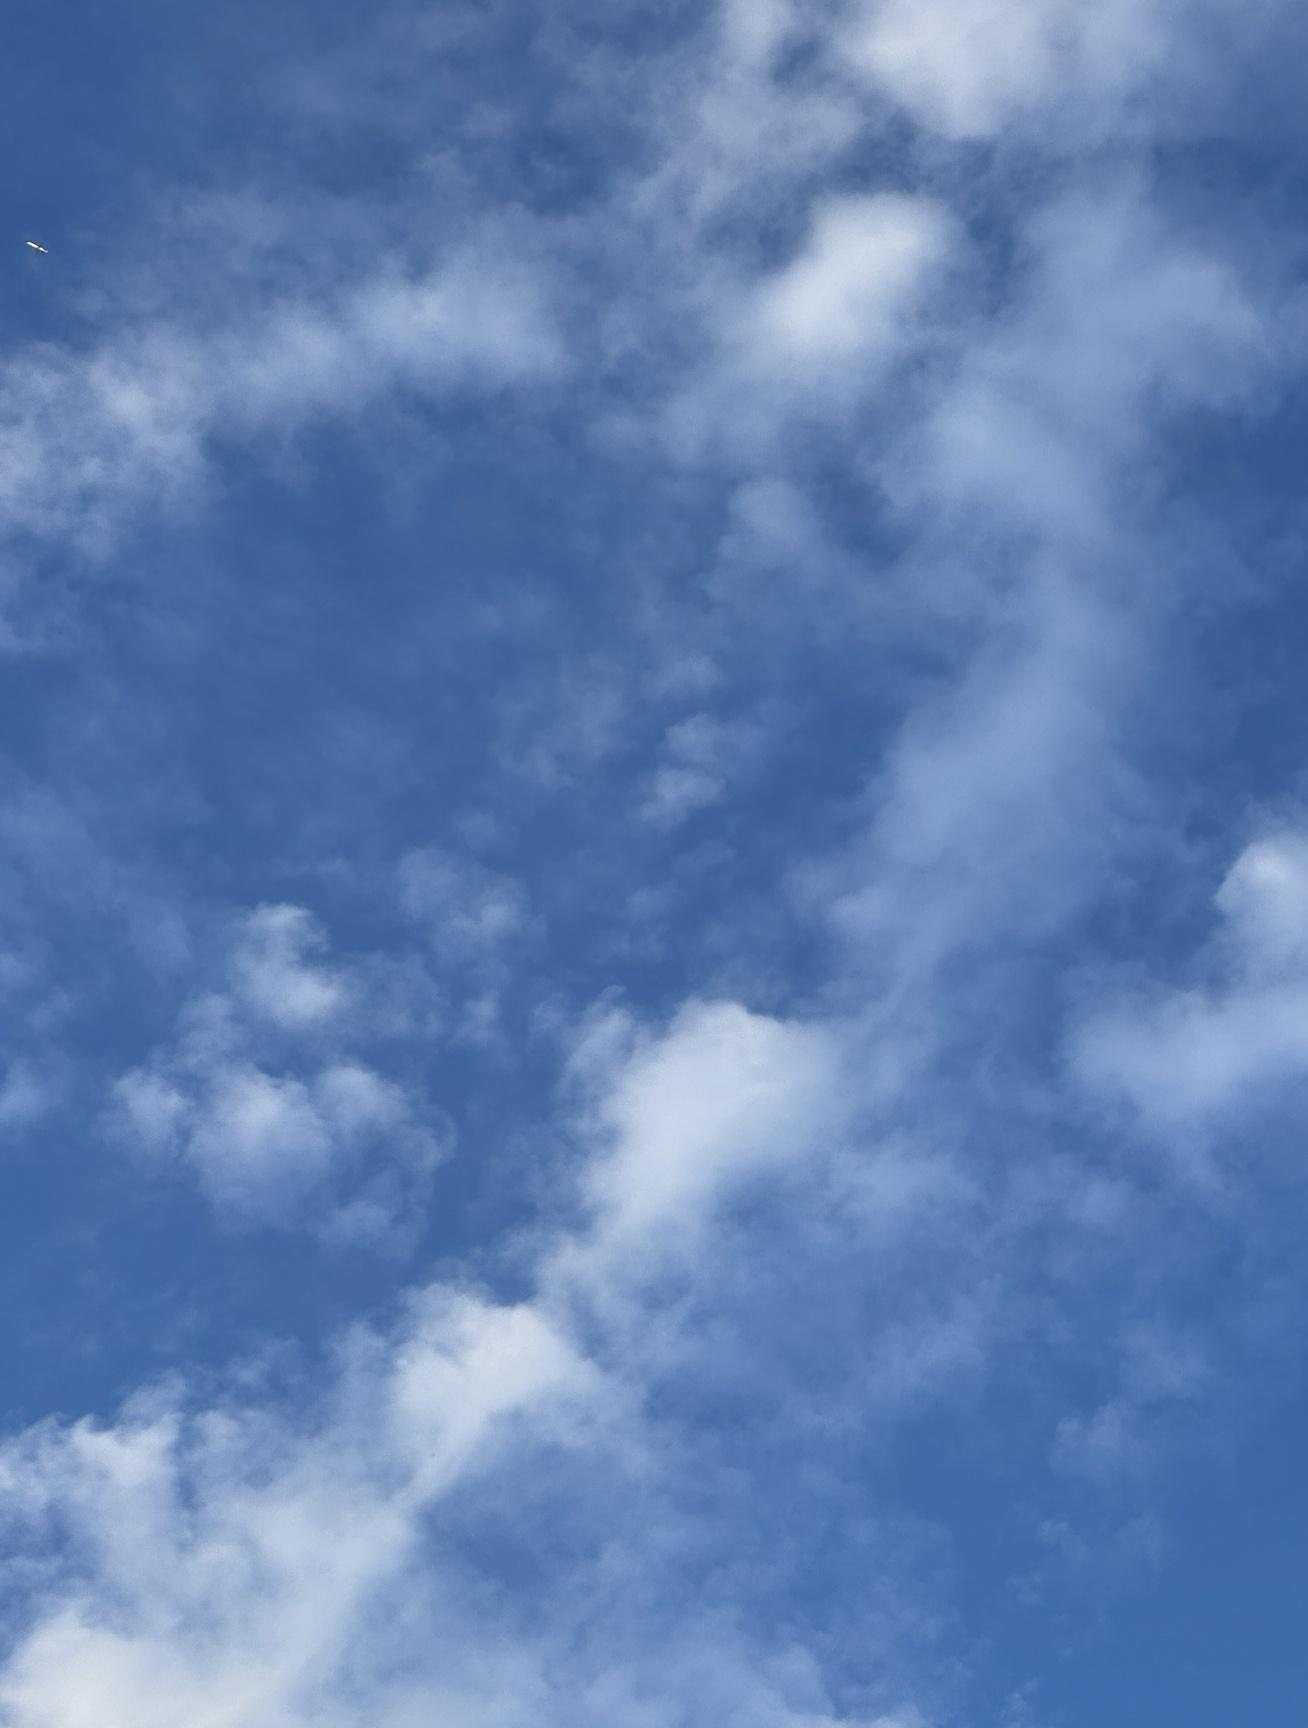Plane: (7, 229, 71, 273)
